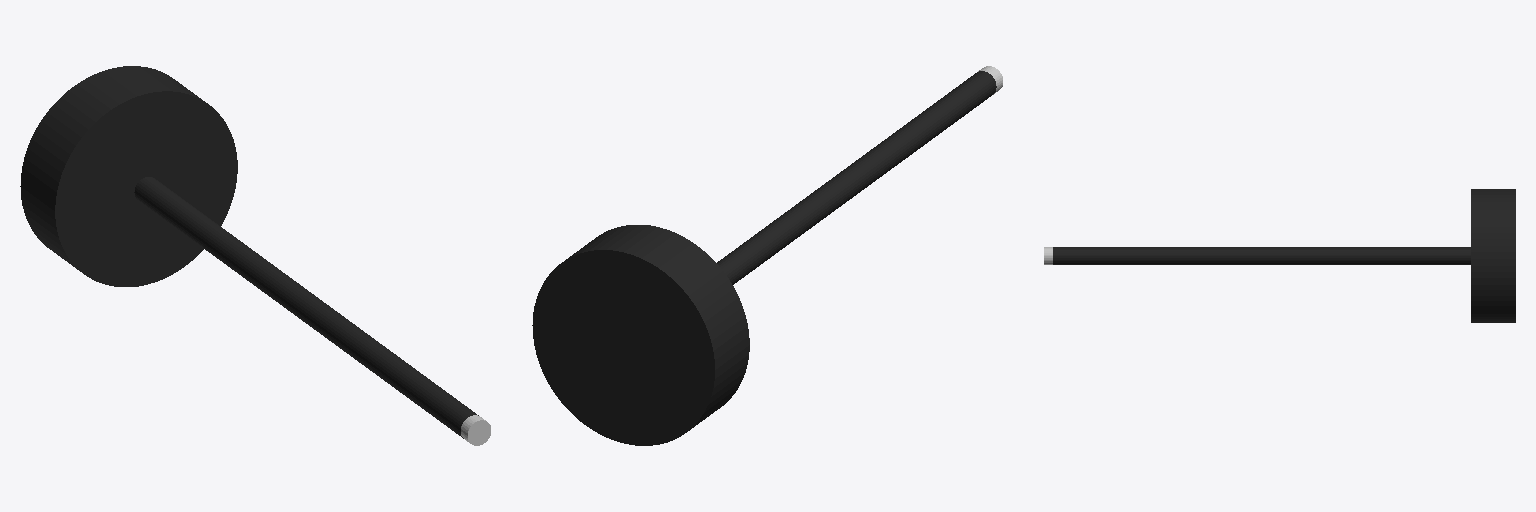
URDF robot description (ur5):
<?xml version="1.0" ?>
<!-- ============================================================================================= -->
<!-- |    This document was autogenerated by xacro from ur_description/urdf/ur5_robot.urdf.xacro | -->
<!-- |    EDITING THIS FILE BY HAND IS NOT RECOMMENDED                                           | -->
<!-- ============================================================================================= -->
<robot name="ur5" xmlns:xacro="http://ros.org/wiki/xacro">
  <material name="LightGrey">
    <color rgba="0.8 0.8 0.8 1.0"/>
  </material>

  <material name="DarkGrey">
    <color rgba="0.2 0.2 0.2 1.0"/>
  </material>

  <link name="base_link">
    <visual>
      <geometry>
        <mesh filename="visual/base.stl"/>
      </geometry>
      <material name="LightGrey"/>
    </visual>
    <!-- <collision>
      <geometry>
      	<mesh filename="collision/base.stl"/>
      </geometry>
    </collision> -->
    <inertial>
      <mass value="4.0"/>
      <origin rpy="0 0 0" xyz="0.0 0.0 0.0"/>
      <inertia ixx="0.00443333156" ixy="0.0" ixz="0.0" iyy="0.00443333156" iyz="0.0" izz="0.0072"/>
    </inertial>
  </link>
  <joint name="shoulder_pan_joint" type="revolute">
    <parent link="base_link"/>
    <child link="shoulder_link"/>
    <origin rpy="0.0 0.0 0.0" xyz="0.0 0.0 0.089159"/>
    <axis xyz="0 0 1"/>
    <limit effort="150.0" lower="-6.28318530718" upper="6.28318530718" velocity="3.15"/>
    <dynamics damping="0.0" friction="0.0"/>
  </joint>
  <link name="shoulder_link">
    <visual>
      <geometry>
        <mesh filename="visual/shoulder.stl"/>
      </geometry>
      <material name="DarkGrey"/>
    </visual>
    <!-- <collision>
      <geometry>
        <mesh filename="collision/shoulder.stl"/>
      </geometry>
    </collision> -->
    <inertial>
      <mass value="3.7"/>
      <origin rpy="0 0 0" xyz="0.0 0.0 0.0"/>
      <inertia ixx="0.010267495893" ixy="0.0" ixz="0.0" iyy="0.010267495893" iyz="0.0" izz="0.00666"/>
    </inertial>
  </link>
  <joint name="shoulder_lift_joint" type="revolute">
    <parent link="shoulder_link"/>
    <child link="upper_arm_link"/>
    <origin rpy="0.0 1.57079632679 0.0" xyz="0.0 0.13585 0.0"/>
    <axis xyz="0 1 0"/>
    <limit effort="150.0" lower="-6.28318530718" upper="6.28318530718" velocity="3.15"/>
    <dynamics damping="0.0" friction="0.0"/>
  </joint>
  <link name="upper_arm_link">
    <visual>
      <geometry>
        <mesh filename="visual/upperarm.stl"/>
      </geometry>
      <material name="LightGrey"/>
    </visual>
    <!-- <collision>
      <geometry>
        <mesh filename="collision/upperarm.stl"/>
      </geometry>
    </collision> -->
    <inertial>
      <mass value="8.393"/>
      <origin rpy="0 0 0" xyz="0.0 0.0 0.28"/>
      <inertia ixx="0.22689067591" ixy="0.0" ixz="0.0" iyy="0.22689067591" iyz="0.0" izz="0.0151074"/>
    </inertial>
  </link>
  <joint name="elbow_joint" type="revolute">
    <parent link="upper_arm_link"/>
    <child link="forearm_link"/>
    <origin rpy="0.0 0.0 0.0" xyz="0.0 -0.1197 0.425"/>
    <axis xyz="0 1 0"/>
    <limit effort="150.0" lower="-3.14159265359" upper="3.14159265359" velocity="3.15"/>
    <dynamics damping="0.0" friction="0.0"/>
  </joint>
  <link name="forearm_link">
    <visual>
      <geometry>
        <mesh filename="visual/forearm.stl"/>
      </geometry>
      <material name="DarkGrey"/>
    </visual>
    <!-- <collision>
      <geometry>
        <mesh filename="collision/forearm.stl"/>
      </geometry>
    </collision> -->
    <inertial>
      <mass value="2.275"/>
      <origin rpy="0 0 0" xyz="0.0 0.0 0.25"/>
      <inertia ixx="0.049443313556" ixy="0.0" ixz="0.0" iyy="0.049443313556" iyz="0.0" izz="0.004095"/>
    </inertial>
  </link>
  <joint name="wrist_1_joint" type="revolute">
    <parent link="forearm_link"/>
    <child link="wrist_1_link"/>
    <origin rpy="0.0 1.57079632679 0.0" xyz="0.0 0.0 0.39225"/>
    <axis xyz="0 1 0"/>
    <limit effort="28.0" lower="-6.28318530718" upper="6.28318530718" velocity="3.2"/>
    <dynamics damping="0.0" friction="0.0"/>
  </joint>
  <link name="wrist_1_link">
    <visual>
      <geometry>
        <mesh filename="visual/wrist1.stl"/>
      </geometry>
      <material name="LightGrey"/>
    </visual>
    <!-- <collision>
      <geometry>
        <mesh filename="collision/wrist1.stl"/>
      </geometry>
    </collision> -->
    <inertial>
      <mass value="1.219"/>
      <origin rpy="0 0 0" xyz="0.0 0.0 0.0"/>
      <inertia ixx="0.111172755531" ixy="0.0" ixz="0.0" iyy="0.111172755531" iyz="0.0" izz="0.21942"/>
    </inertial>
  </link>
  <joint name="wrist_2_joint" type="revolute">
    <parent link="wrist_1_link"/>
    <child link="wrist_2_link"/>
    <origin rpy="0.0 0.0 0.0" xyz="0.0 0.093 0.0"/>
    <axis xyz="0 0 1"/>
    <limit effort="28.0" lower="-6.28318530718" upper="6.28318530718" velocity="3.2"/>
    <dynamics damping="0.0" friction="0.0"/>
  </joint>
  <link name="wrist_2_link">
    <visual>
      <geometry>
        <mesh filename="visual/wrist2.stl"/>
      </geometry>
      <material name="DarkGrey"/>
    </visual>
    <!-- <collision>
      <geometry>
        <mesh filename="collision/wrist2.stl"/>
      </geometry>
    </collision> -->
    <inertial>
      <mass value="1.219"/>
      <origin rpy="0 0 0" xyz="0.0 0.0 0.0"/>
      <inertia ixx="0.111172755531" ixy="0.0" ixz="0.0" iyy="0.111172755531" iyz="0.0" izz="0.21942"/>
    </inertial>
  </link>
  <joint name="wrist_3_joint" type="revolute">
    <parent link="wrist_2_link"/>
    <child link="wrist_3_link"/>
    <origin rpy="0.0 0.0 0.0" xyz="0.0 0.0 0.09465"/>
    <axis xyz="0 1 0"/>
    <limit effort="28.0" lower="-6.28318530718" upper="6.28318530718" velocity="3.2"/>
    <dynamics damping="0.0" friction="0.0"/>
  </joint>
  <link name="wrist_3_link">
    <visual>
      <geometry>
        <mesh filename="visual/wrist3.stl"/>
      </geometry>
      <material name="LightGrey"/>
    </visual>
    <collision>
      <geometry>
        <mesh filename="collision/wrist3.stl"/>
      </geometry>
    </collision>
    <inertial>
      <mass value="0.1879"/>
      <origin rpy="0 0 0" xyz="0.0 0.0 0.0"/>
      <inertia ixx="0.0171364731454" ixy="0.0" ixz="0.0" iyy="0.0171364731454" iyz="0.0" izz="0.033822"/>
    </inertial>
  </link>
  <joint name="ee_fixed_joint" type="fixed">
    <parent link="wrist_3_link"/>
    <child link="ee_link"/>
    <origin rpy="-1.5707963267948966 0.0 0.0" xyz="0.0 0.0823 0.0"/>
  </joint>
  <link name="ee_link">
    <!-- <collision>
      <geometry>
        <box size="0.01 0.01 0.01"/>
      </geometry>
      <origin rpy="0 0 0" xyz="-0.01 0 0"/>
    </collision> -->
    <inertial>
      <mass value="0.0"/>
      <origin rpy="0 0 0" xyz="0.0 0.0 0.0"/>
      <inertia ixx="0.0" ixy="0.0" ixz="0.0" iyy="0.0" iyz="0.0" izz="0.0"/>
    </inertial>
  </link>
  <!-- nothing to do here at the moment -->
  <!-- ROS base_link to UR 'Base' Coordinates transform -->
  <link name="base">
    <inertial>
      <mass value="0.0"/>
      <origin rpy="0 0 0" xyz="0.0 0.0 0.0"/>
      <inertia ixx="0.0" ixy="0.0" ixz="0.0" iyy="0.0" iyz="0.0" izz="0.0"/>
    </inertial>
  </link>
  <joint name="base_link-base_fixed_joint" type="fixed">
    <!-- NOTE: this rotation is only needed as long as base_link itself is
                 not corrected wrt the real robot (ie: rotated over 180
                 degrees)
      -->
    <origin rpy="0 0 -3.14159265359" xyz="0 0 0"/>
    <parent link="base_link"/>
    <child link="base"/>
  </joint>
  <!-- Frame coincident with all-zeros TCP on UR controller -->
  <link name="tool0">
    <inertial>
      <mass value="0.0"/>
      <origin rpy="0 0 0" xyz="0.0 0.0 0.0"/>
      <inertia ixx="0.0" ixy="0.0" ixz="0.0" iyy="0.0" iyz="0.0" izz="0.0"/>
    </inertial>
  </link>
  <joint name="wrist_3_link-tool0_fixed_joint" type="fixed">
    <origin rpy="-1.57079632679 0 0" xyz="0 0.0823 0"/>
    <parent link="wrist_3_link"/>
    <child link="tool0"/>
  </joint>

  <link name="suctionBaseLink">
    <contact>
      <lateral_friction value="0.001"/>
      <rolling_friction value="0.0001"/>
      <inertia_scaling value="3.0"/>
    </contact>
    <inertial>
      <origin rpy="0 0 0" xyz="0 0 0"/>
       <mass value=".1"/>
       <inertia ixx="1" ixy="0" ixz="0" iyy="1" iyz="0" izz="1"/>
    </inertial>
    <visual>
      <origin rpy="0 0 0" xyz="0 0 0"/>
      <geometry>
        <mesh filename="suction/base.obj" scale="0.001 0.001 0.001"/>
      </geometry>
      <material name="DarkGrey"/>
    </visual>
    <visual>
      <origin rpy="0 0 0" xyz="0 0 0.14"/>
      <geometry>
        <!-- <box size="0.05 0.005 0.11"/> -->
        <cylinder radius=".005" length="0.24"/>
      </geometry>
      <material name="DarkGrey"/>
    </visual>
    <collision>
      <origin rpy="0 0 0" xyz="0 0 0.14"/>
      <geometry>
        <!-- <box size="0.05 0.005 0.11"/> -->
        <cylinder radius=".005" length="0.24"/>
      </geometry>
    </collision>
  </link>
  <joint name="tool0_fixed_joint-suctionBaseLink" type="fixed">
    <origin rpy="0 0 0" xyz="0 0 0"/>
    <parent link="tool0"/>
    <child link="suctionBaseLink"/>
  </joint>

  <link name="suctionMidLink">
    <contact>
      <lateral_friction value="0.001"/>
      <rolling_friction value="0.0001"/>
      <inertia_scaling value="3.0"/>
    </contact>
    <inertial>
      <origin rpy="0 0 0" xyz="0 0 0"/>
       <mass value=".1"/>
       <inertia ixx="1" ixy="0" ixz="0" iyy="1" iyz="0" izz="1"/>
    </inertial>
    <!-- <visual>
      <origin rpy="0 0 0" xyz="0 0 0"/>
      <geometry>
        <mesh filename="suction/mid.obj" scale="0.001 0.001 0.001"/>
      </geometry>
      <material name="DarkGrey"/>
    </visual> -->
    <visual>
      <origin rpy="0 0 0" xyz="0 0 0.2375"/>
      <geometry>
        <!-- <box size="0.05 0.005 0.005"/> -->
        <cylinder radius=".005" length="0.005"/>
      </geometry>
      <material name="LightGrey"/>
    </visual>
    <collision>
      <origin rpy="0 0 0" xyz="0 0 0.2375"/>
      <geometry>
        <!-- <box size="0.05 0.005 0.005"/> -->
        <cylinder radius=".005" length="0.005"/>
      </geometry>
    </collision>
    <!-- <visual>
      <origin rpy="0 0 0" xyz="0 0 0.065"/>
      <geometry>
        <box size="0.05 0.01 0.1"/>
      </geometry>
      <material name="LightGrey"/>
    </visual> -->
  </link>
  <joint name="suctionBaseLink-suctionMidLink" type="fixed">
    <origin rpy="0 0 0" xyz="0 0 0.025"/>
    <parent link="suctionBaseLink"/>
    <child link="suctionMidLink"/>
  </joint>


  <link name="tool_tip">
    <inertial>
      <mass value="0.0"/>
      <origin rpy="-3.14159265359 0 -1.57079632679" xyz="0.0 0.0 0.0"/>
      <inertia ixx="0.0" ixy="0.0" ixz="0.0" iyy="0.0" iyz="0.0" izz="0.0"/>
    </inertial>
    <!-- <visual>
      <geometry>
        <box size="0.01 0.01 0.01"/>
      </geometry>
      <origin rpy="0 0 0" xyz="0 0 0"/>
    </visual> -->
  </link>
  <joint name="suctionMidLink-tool_tip" type="fixed">
    <origin rpy="0 0 0" xyz="0 0 0.24"/>
    <parent link="suctionMidLink"/>
    <child link="tool_tip"/>
  </joint>













  <link name="world"/>
  <joint name="world_joint" type="fixed">
    <parent link="world"/>
    <child link="rotated_base_link"/>
    <origin rpy="0.0 0.0 0.0" xyz="0.0 0.0 0.0"/>
  </joint>

  <link name="rotated_base_link">
    <inertial>
      <mass value="0.0"/>
      <origin rpy="0 0 0" xyz="0.0 0.0 0.0"/>
      <inertia ixx="0.0" ixy="0.0" ixz="0.0" iyy="0.0" iyz="0.0" izz="0.0"/>
    </inertial>
  </link>>

  <joint name="rotated_base-base_fixed_joint" type="fixed">
    <origin xyz="0.0 0.0 0.0" rpy="0.0 0.0 3.141592653589793"/>
    <parent link="rotated_base_link"/>
    <child link="base_link"/>
  </joint>
</robot>

--- What the picture shows (computed from the rendered views, not written in the file) ---
The picture shows the robot from 3 angles, left to right: view 1: azimuth 30°, elevation 25°; view 2: azimuth 150°, elevation 25°; view 3: azimuth 270°, elevation 25°; orthographic projection.
Robot: ur5 — 15 links, 14 joints (6 revolute, 8 fixed); root link world; default pose: all joints at 0.
Visible links, largest first — view 1: suctionBaseLink, suctionMidLink; view 2: suctionBaseLink; view 3: suctionBaseLink.
Link boxes in pixels (x1,y1,x2,y2): suctionBaseLink: [20, 66, 478, 438]; suctionMidLink: [461, 415, 490, 445]; suctionBaseLink: [532, 71, 996, 445]; suctionBaseLink: [1053, 189, 1515, 322].
Size in the robot's own frame: 0.076 by 0.265 by 0.076 metres.
Meshes: 8 distinct files referenced, 1 mesh visuals loaded (1 OBJ); not drawn: 7 (reference not matched to a file when rendering).